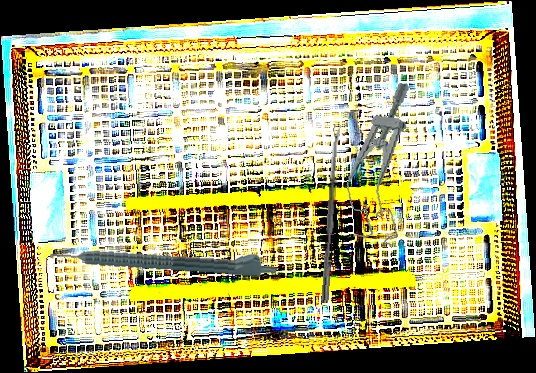Handpiece: (49, 237, 279, 279)
Speculum: (338, 77, 422, 247)
Surgical Spoon: (321, 124, 342, 304)
